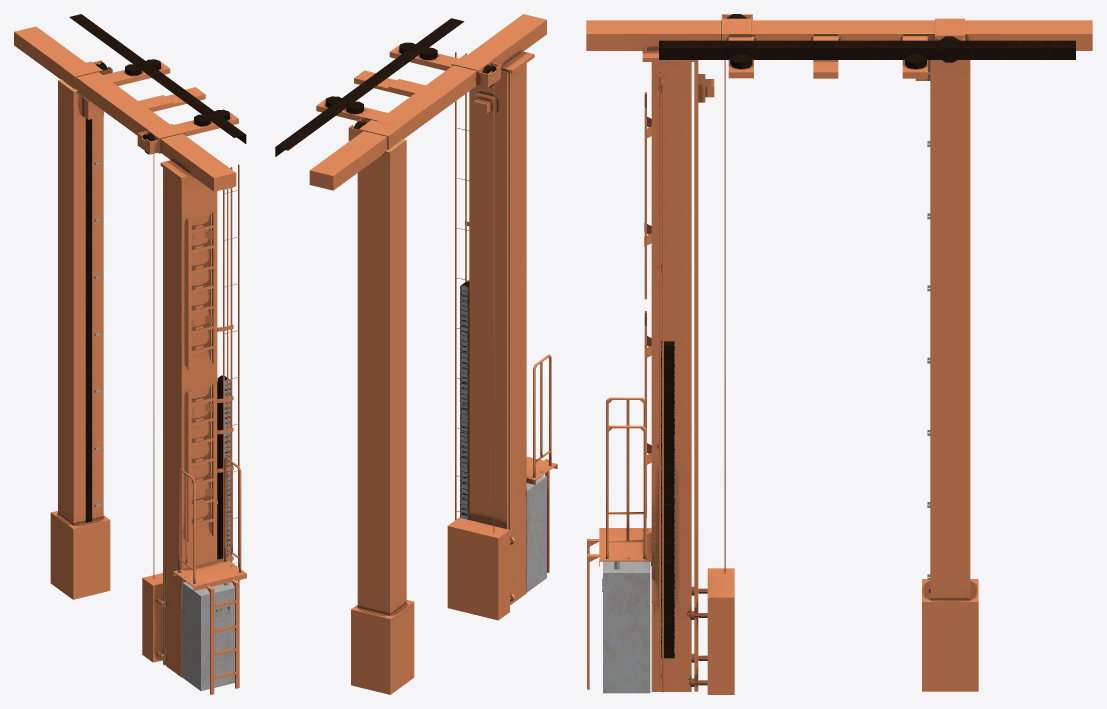
The model's file is zhuangzai.FBX.
The picture shows the model from 3 angles, left to right: view 1: azimuth 30°, elevation 25°; view 2: azimuth 150°, elevation 25°; view 3: azimuth 270°, elevation 25°; orthographic projection. The views are drawn at different scales.
Parts seen in each view (by area): view 1: YF_Model_zhuangzai; view 2: YF_Model_zhuangzai; view 3: YF_Model_zhuangzai.
Part boxes in pixels (box(x1,y1,x2,y2)): YF_Model_zhuangzai: box(14, 14, 246, 694); YF_Model_zhuangzai: box(275, 14, 557, 694); YF_Model_zhuangzai: box(586, 14, 1092, 694).
Size of the model in its own units: 156 by 812 by 562.
1 material, 1 textured.
